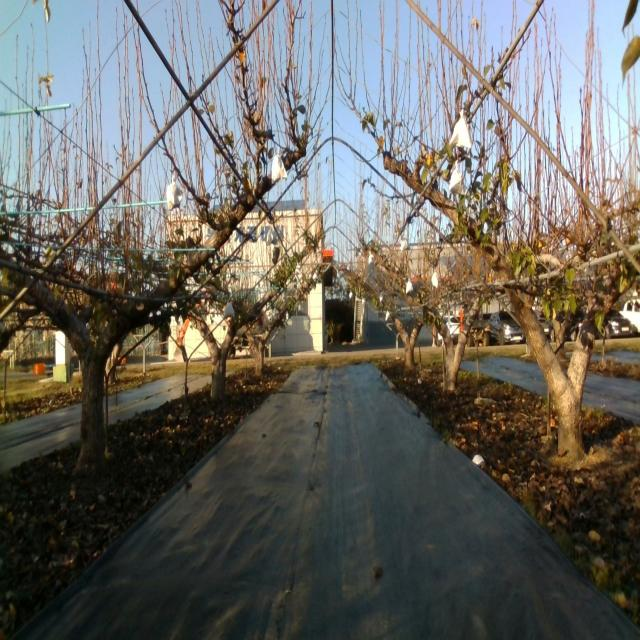pearbags: (448, 109, 472, 148), (448, 160, 467, 196), (270, 149, 287, 185), (166, 178, 182, 210), (223, 299, 235, 318)
